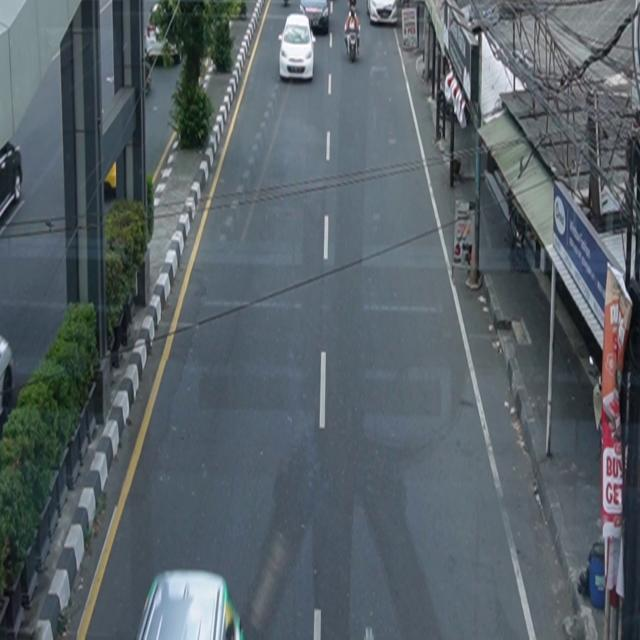car: (136, 570, 246, 640), (279, 14, 317, 82), (300, 1, 330, 35), (367, 1, 399, 26)
